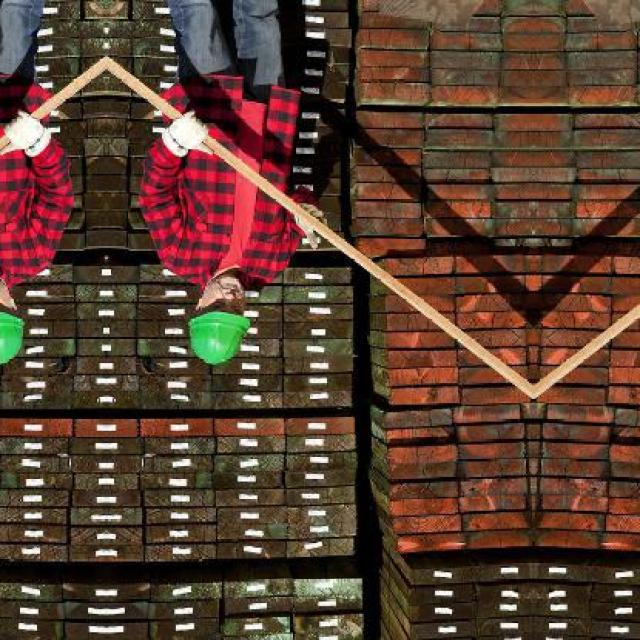safetyhelmet: (186, 277, 253, 371)
